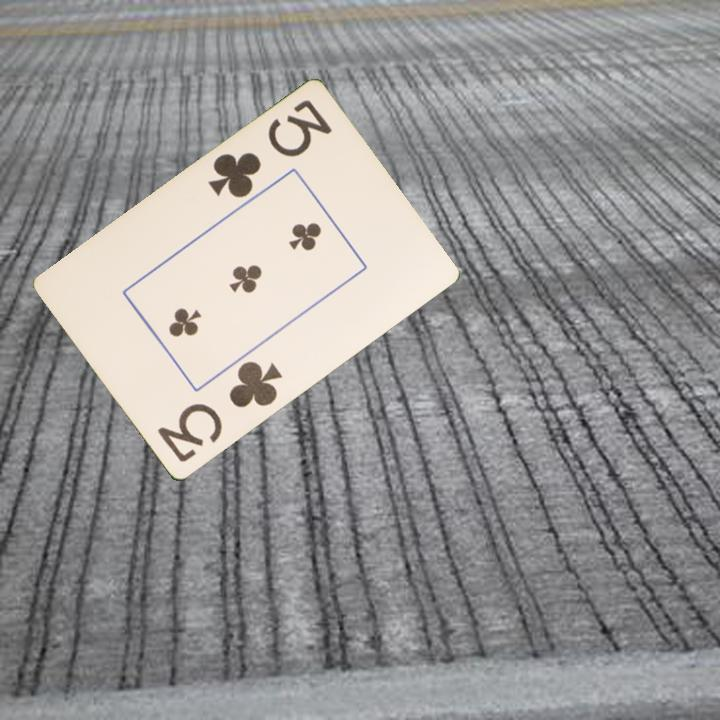3c: (153, 357, 286, 466), (204, 96, 335, 202)
